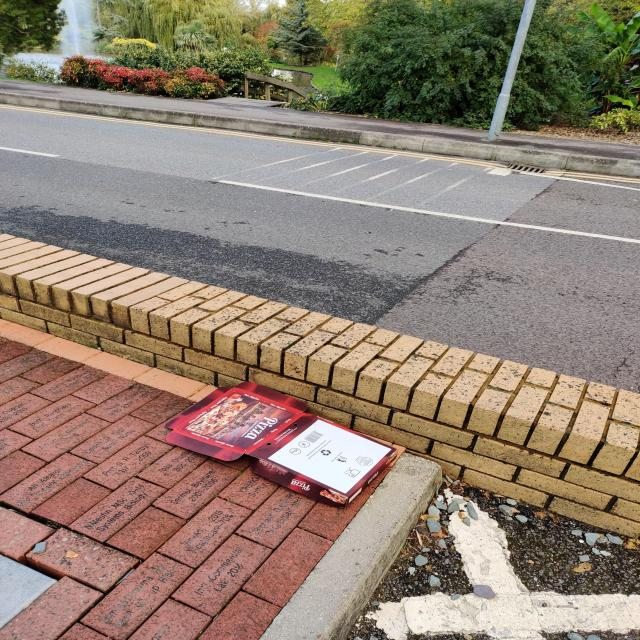litter: (163, 379, 403, 505)
